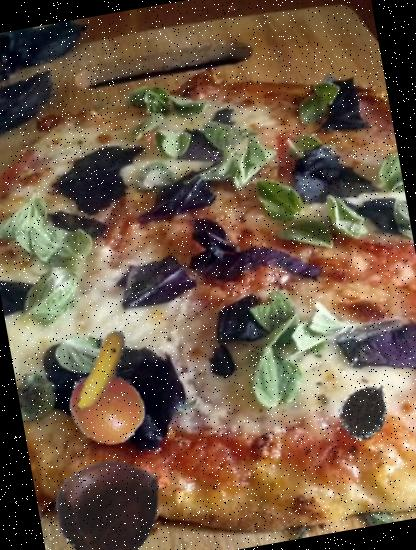Banana: (51, 320, 154, 423)
Chestnut: (46, 441, 175, 550)
Rambutan: (328, 374, 400, 445)
Tangelo: (60, 359, 152, 452)
